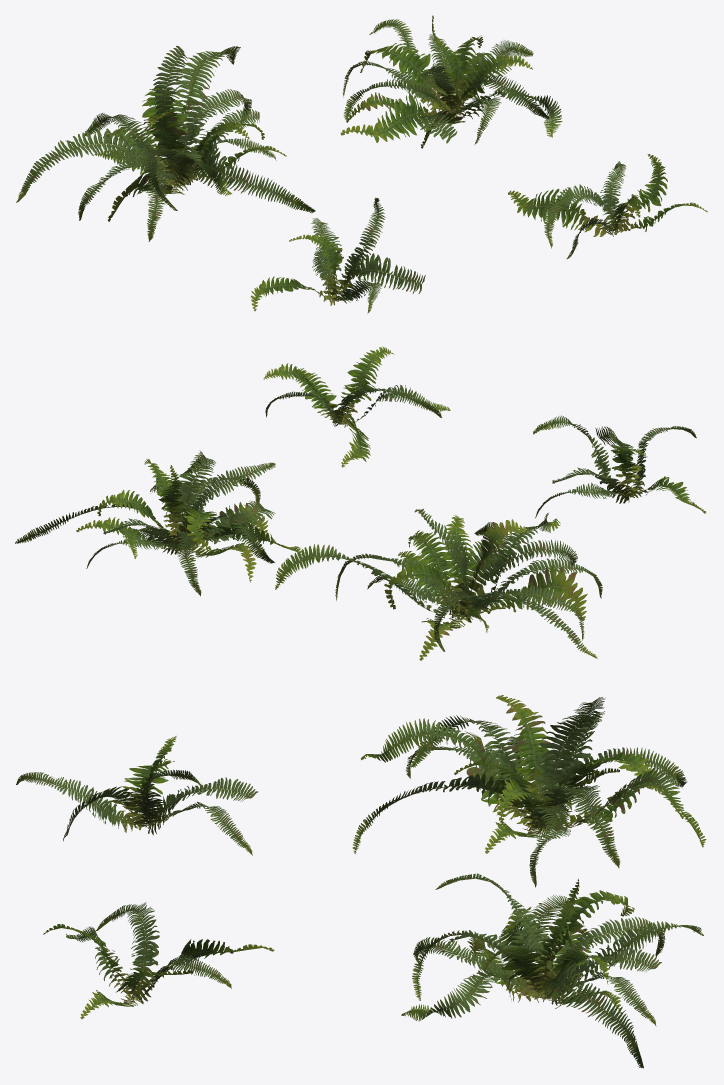
The model's file is fern_02.glb.
The picture shows the model from 3 angles, top to bottom: view 1: azimuth 30°, elevation 25°; view 2: azimuth 150°, elevation 25°; view 3: azimuth 270°, elevation 25°; orthographic projection. The views are drawn at different scales.
Parts seen in each view (by area): view 1: fern_02_b_mesh, fern_02_c_mesh, fern_02_a_mesh, fern_02_d_mesh; view 2: fern_02_b_mesh, fern_02_c_mesh, fern_02_d_mesh, fern_02_a_mesh; view 3: fern_02_b_mesh, fern_02_c_mesh, fern_02_a_mesh, fern_02_d_mesh.
Part boxes in pixels (bbox=[...]): fern_02_b_mesh: bbox=[16, 46, 315, 241]; fern_02_c_mesh: bbox=[340, 15, 562, 148]; fern_02_a_mesh: bbox=[250, 197, 425, 313]; fern_02_d_mesh: bbox=[508, 154, 707, 259]; fern_02_b_mesh: bbox=[275, 508, 602, 660]; fern_02_c_mesh: bbox=[15, 450, 302, 596]; fern_02_d_mesh: bbox=[263, 346, 450, 467]; fern_02_a_mesh: bbox=[533, 415, 706, 518]; fern_02_b_mesh: bbox=[352, 695, 706, 887]; fern_02_c_mesh: bbox=[401, 873, 703, 1068]; fern_02_a_mesh: bbox=[16, 736, 258, 855]; fern_02_d_mesh: bbox=[43, 902, 274, 1019].
Size of the model in its own units: 1.97 by 0.4277 by 1.72.
Materials: 1 (1 with a texture image).
